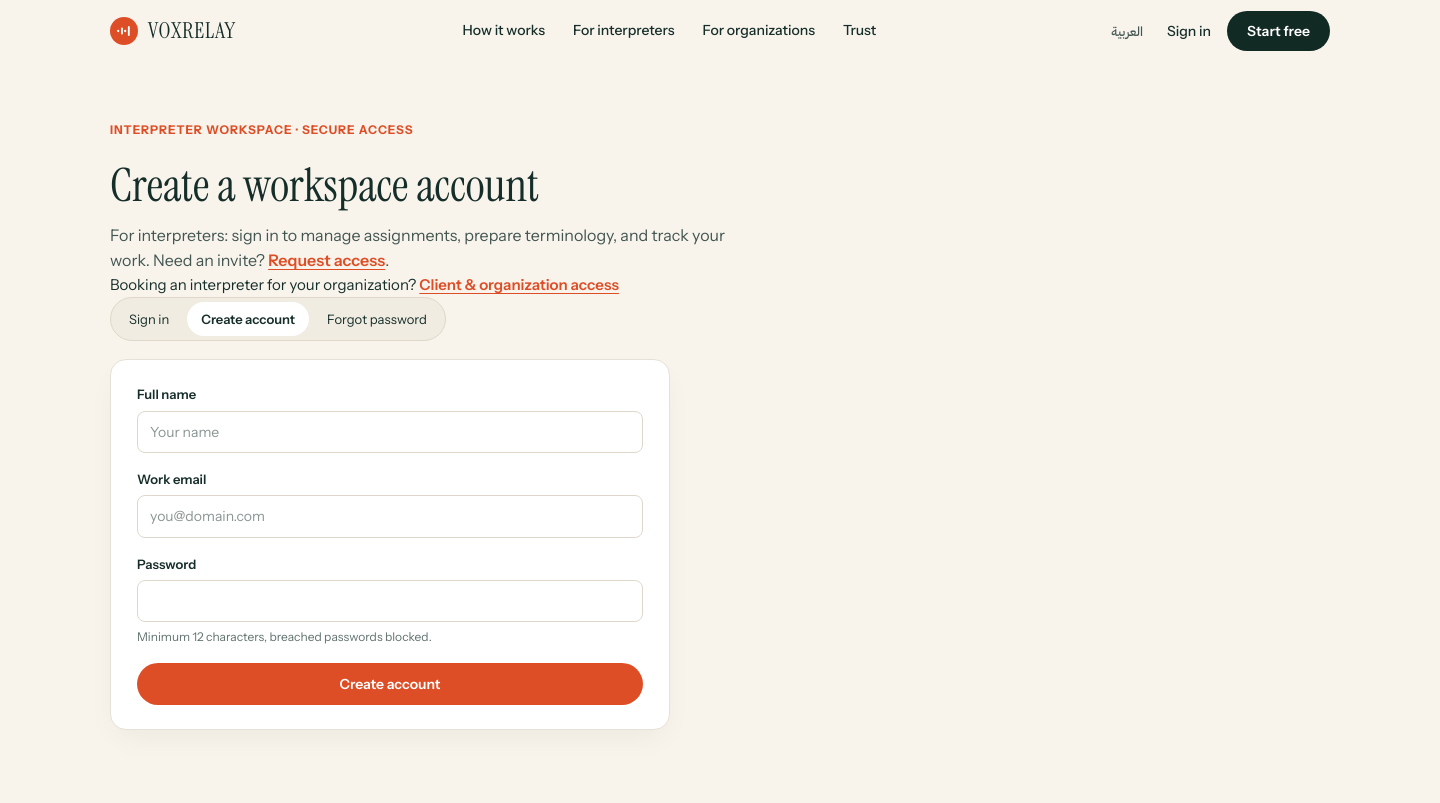
Test: Auth.tsx frontend fail-closed behavior against /api/auth rate limits & 5xx responses › does not fall back to supabase.auth.resend() when /api/auth resend_confirmation returns 503
Type "resend503@clinic.org" into the field labelled "Work email" at (390, 517), box [137, 496, 643, 538]
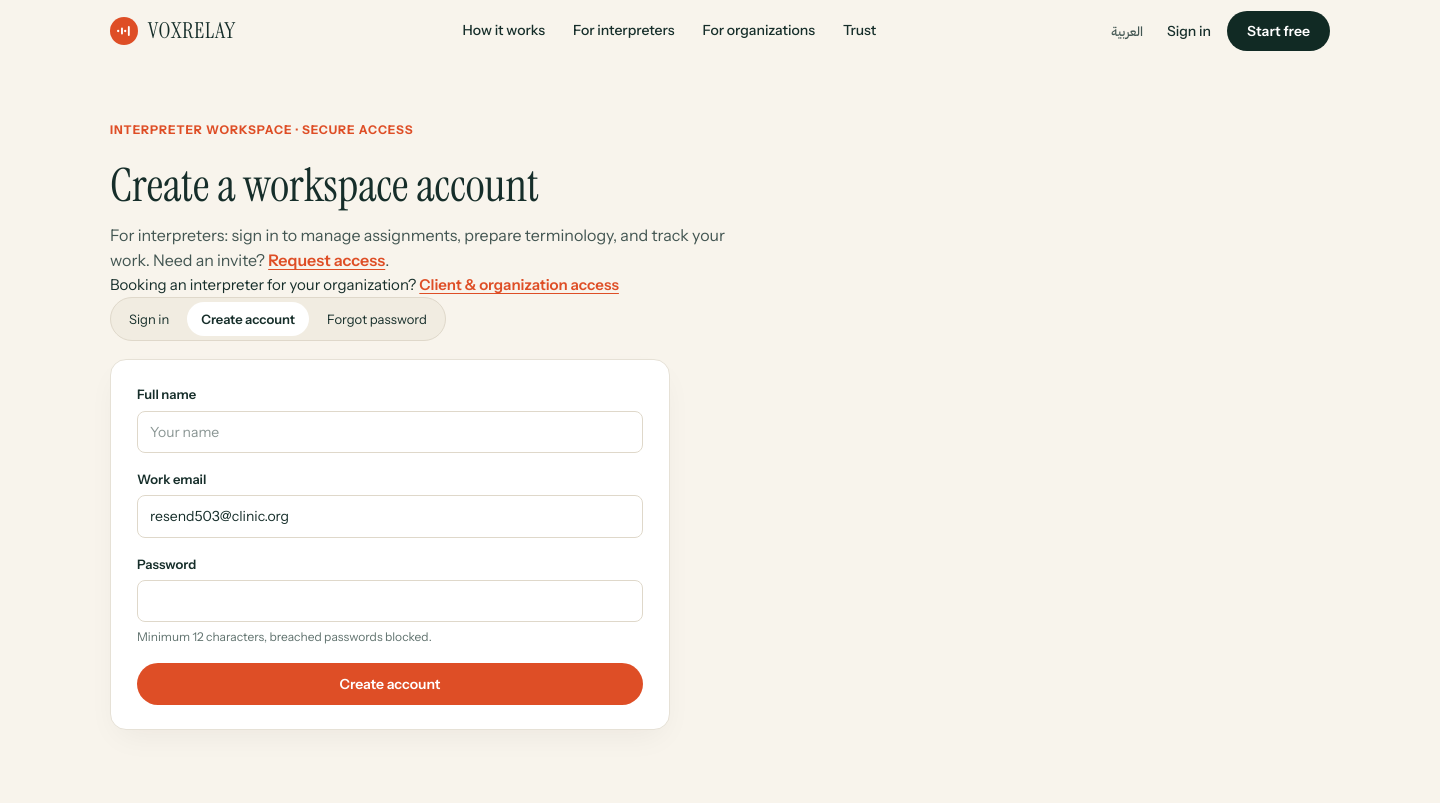
Type "ValidStrongPassword123!" into the password field labelled "Password" at (390, 601), box [137, 580, 643, 622]
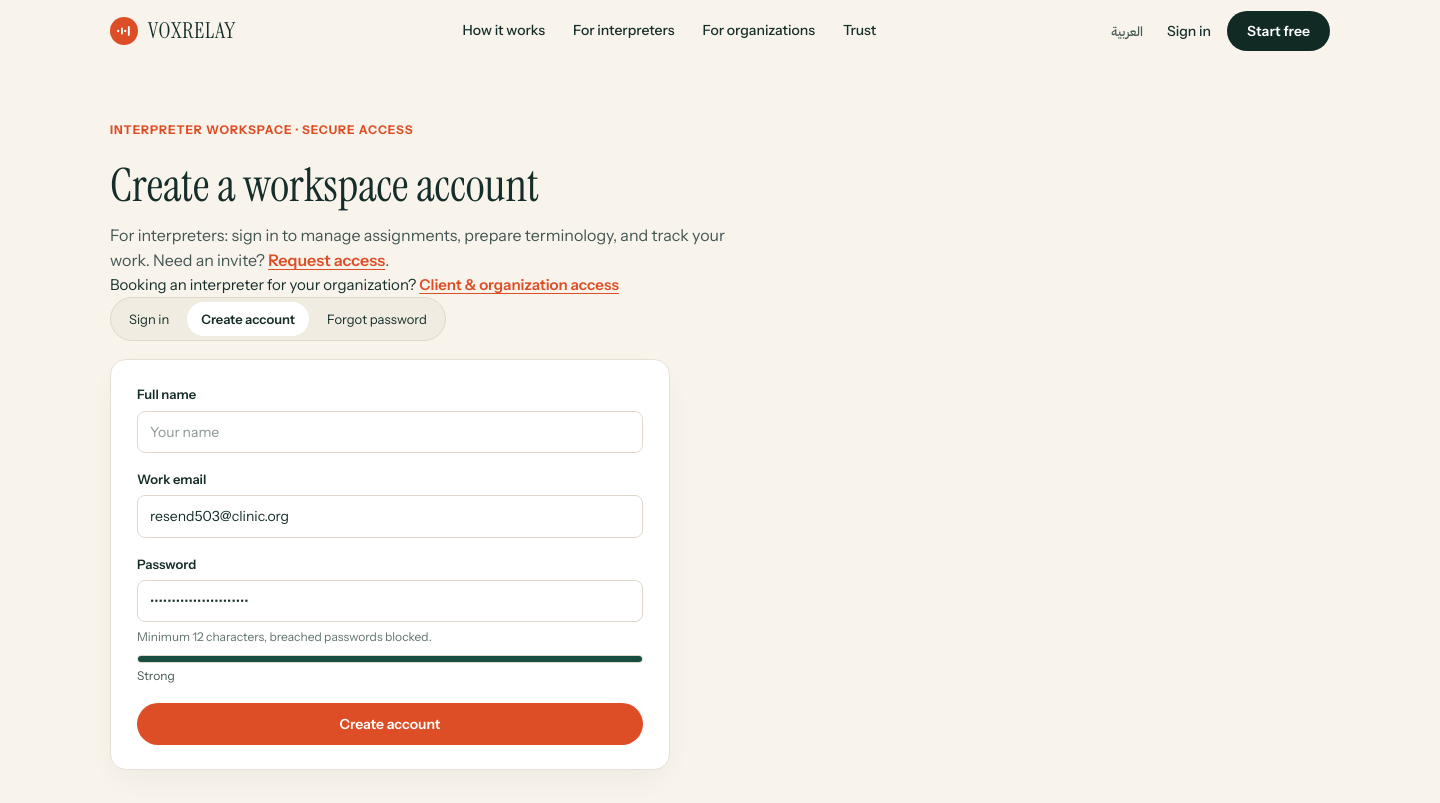
Click the button "Create account" below "Strong" at (390, 724), box [137, 703, 643, 745]
(page scrolled)
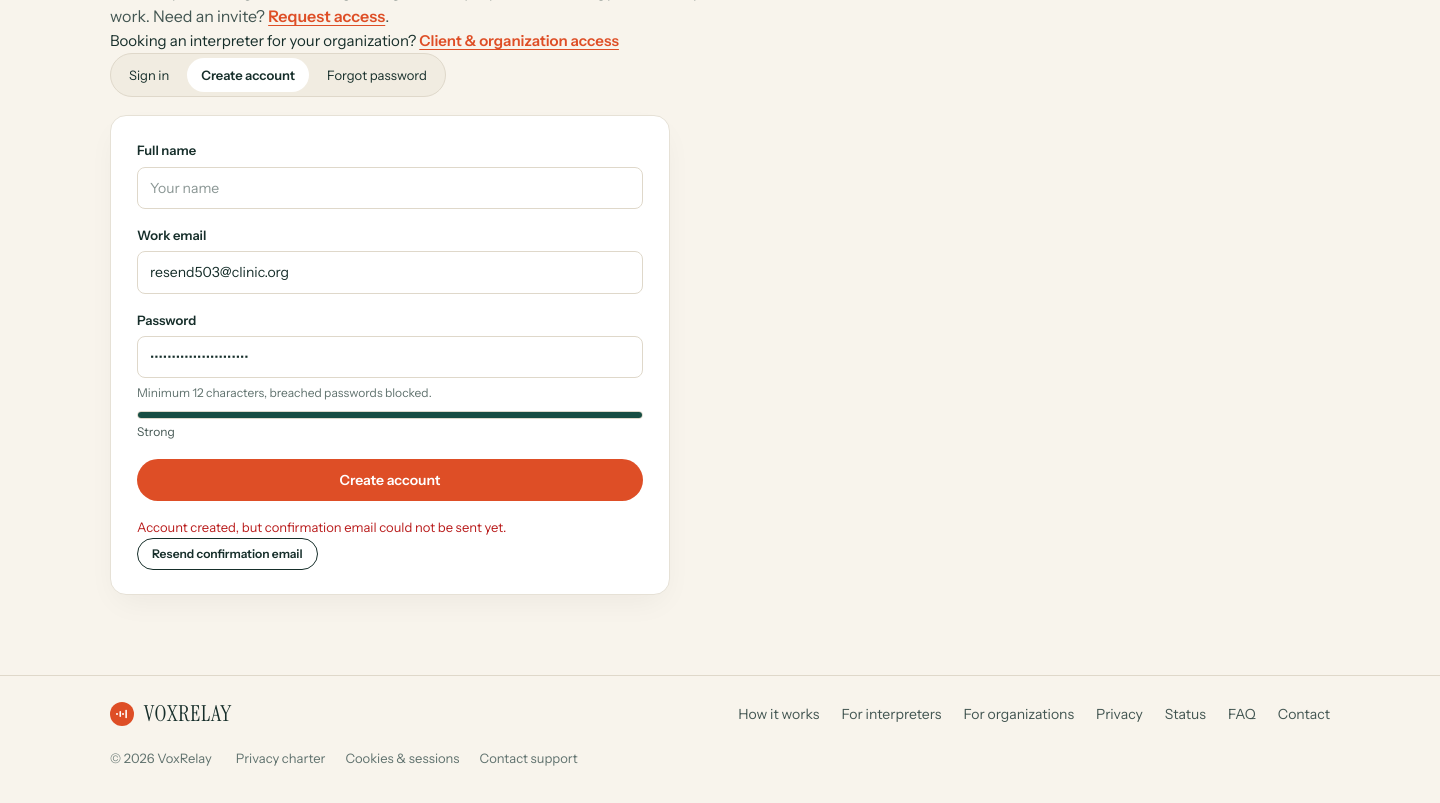
Now the button "Resend confirmation email" is shown
Click the button "Resend confirmation email" at (227, 554), box [137, 538, 318, 570]
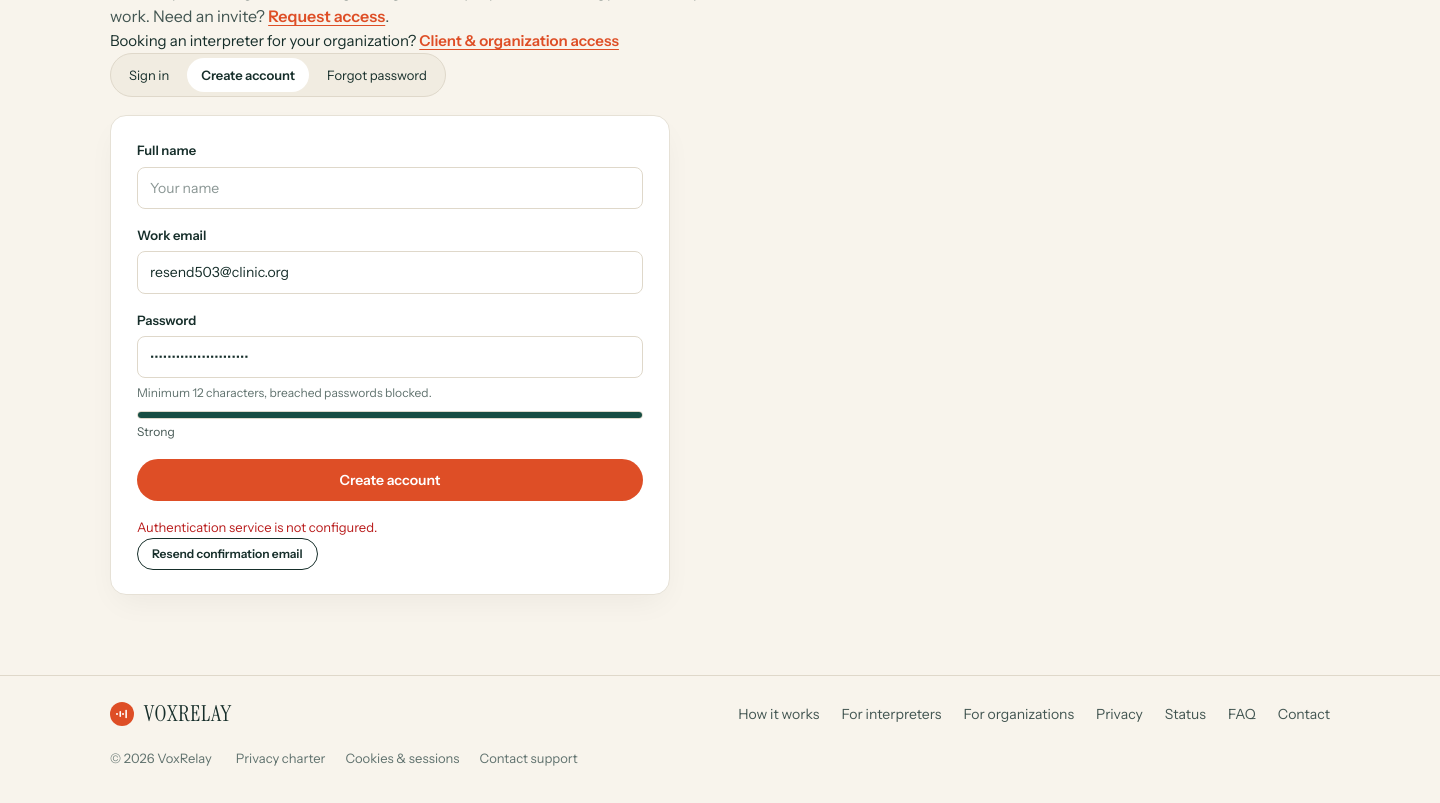
Now the message shows "Authentication service is not configured", box [137, 519, 377, 535]
